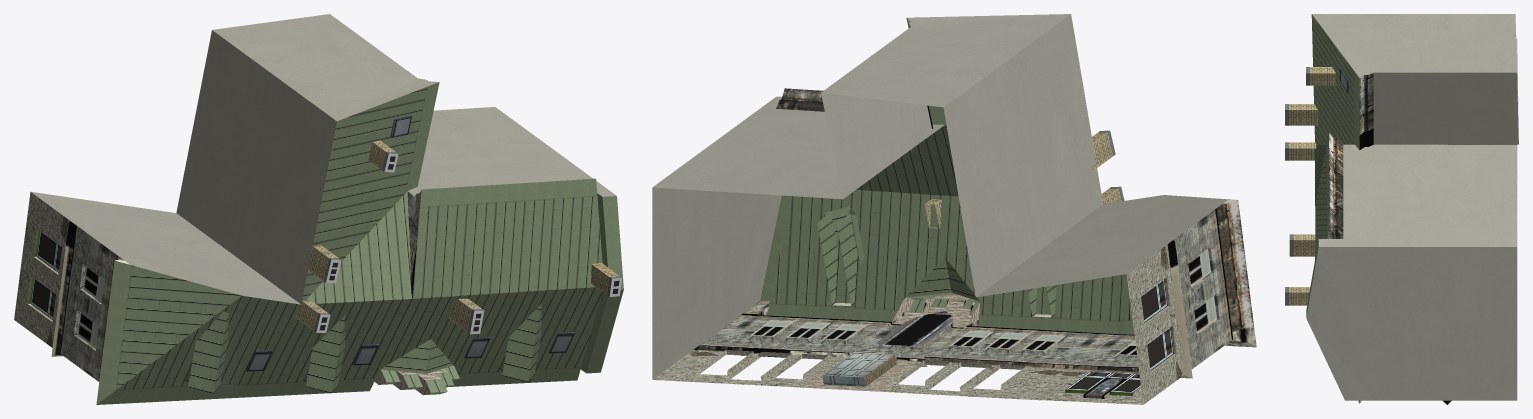
File: Viru21.obj
3 renders of one model, left to right at view 1: azimuth 30°, elevation 25°; view 2: azimuth 150°, elevation 25°; view 3: azimuth 270°, elevation 25°, orthographic. The views are drawn at different scales.
Visible parts, largest first — view 1: Viru21; view 2: Viru21; view 3: Viru21.
Part boxes in pixels (x1,y1,x2,y2): Viru21: (14, 14, 623, 404); Viru21: (652, 14, 1256, 404); Viru21: (1285, 14, 1518, 404).
Bounding box in the file's own units: 27.93 × 18.65 × 14.
